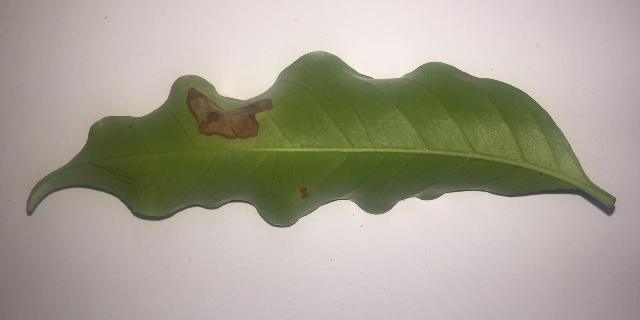cercospora: (187, 88, 273, 139), (300, 188, 309, 199)
